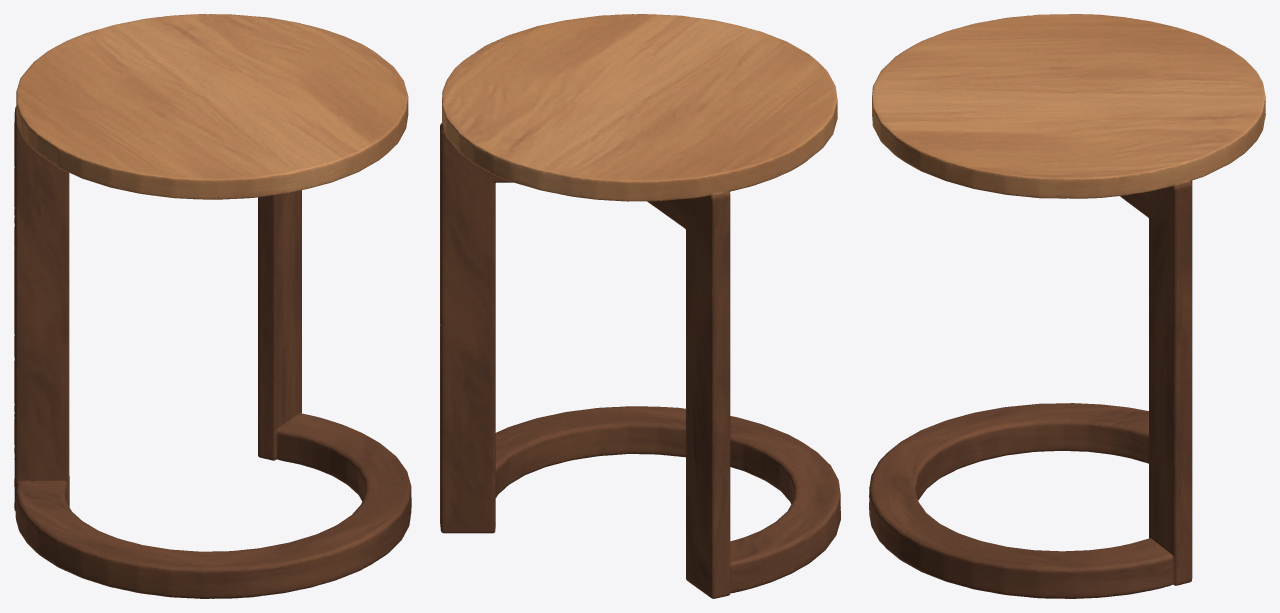
File: bedside_table_001.glb
3 views of the same model, side by side, from view 1: azimuth 30°, elevation 25°; view 2: azimuth 150°, elevation 25°; view 3: azimuth 270°, elevation 25° (orthographic).
Parts seen in each view (by area): view 1: world; view 2: world; view 3: world.
Boxes of the visible parts, <box> form: world: <box>14,14,411,598</box>; world: <box>440,14,840,598</box>; world: <box>869,14,1265,598</box>.
Bounding box in the file's own units: 0.8576 × 1 × 0.8564.
1 material, 1 textured.
